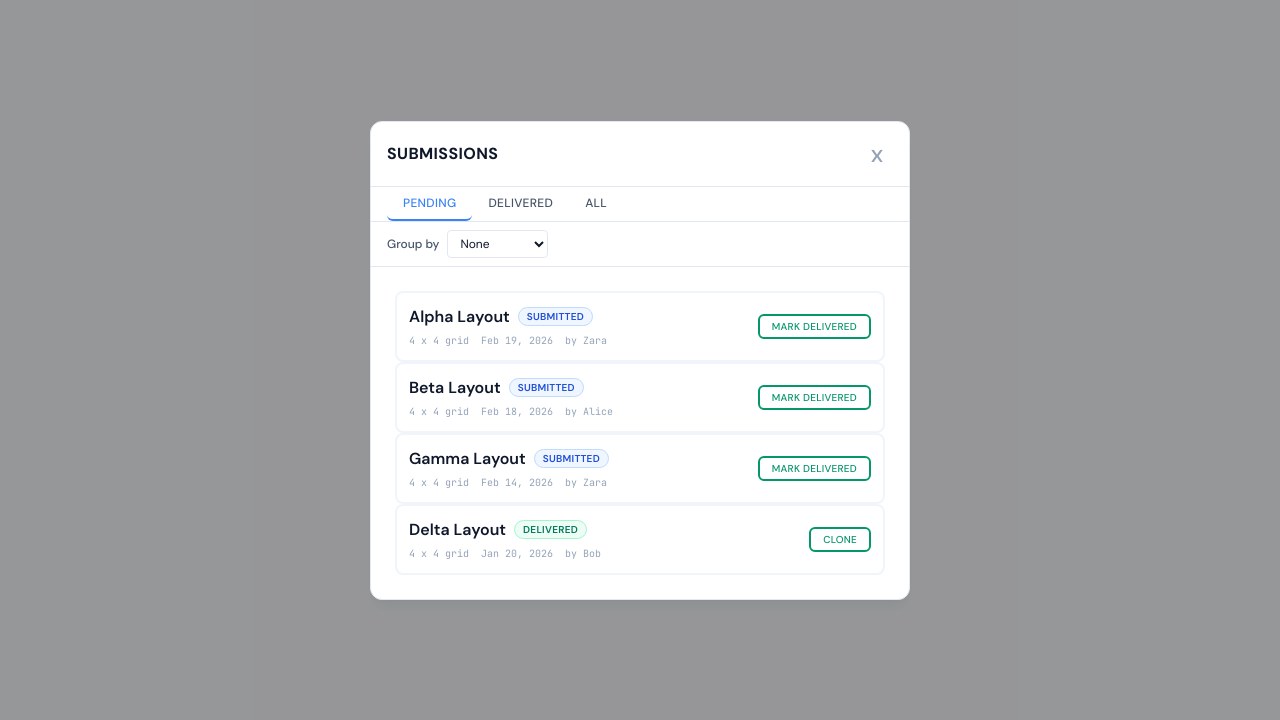
AdminSubmissionsDialog grouping › groups layouts by owner when Owner is selected
Select "Owner" in the dropdown labelled "Group by". click: (498, 244)
box: [448, 230, 548, 258]
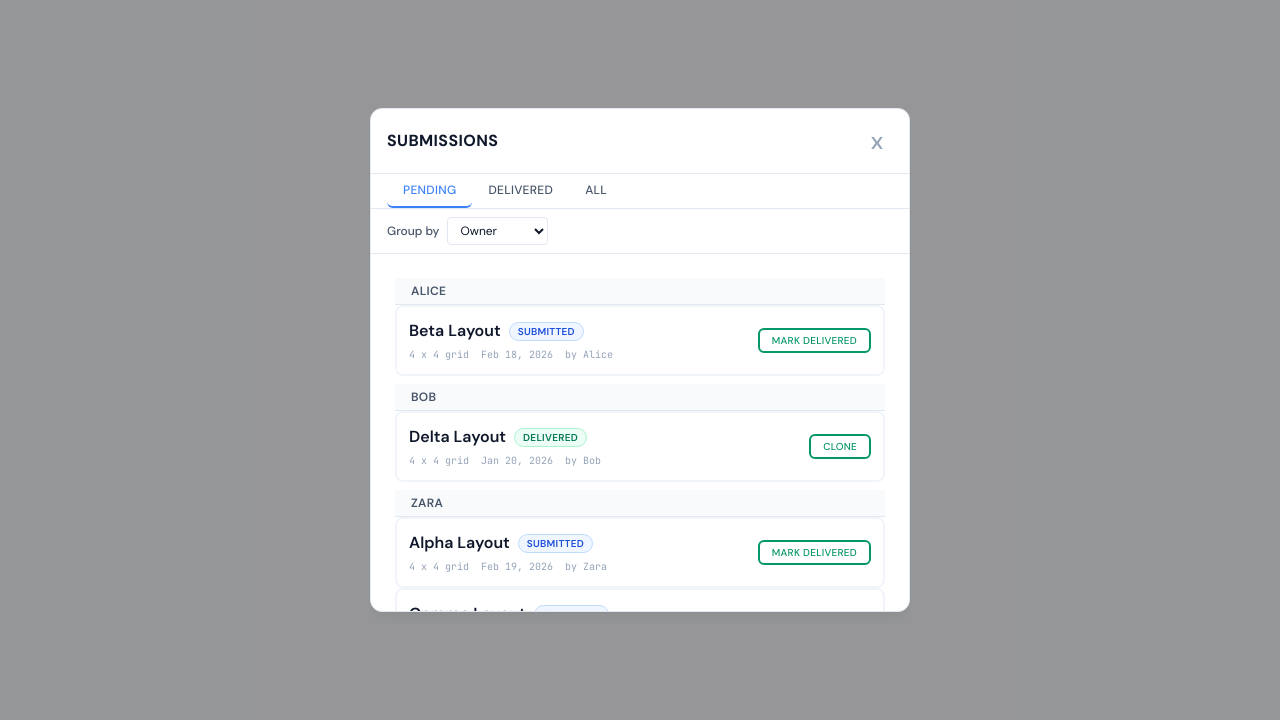
Check: the headings read "Alice", "Bob", "Zara", in this order, box [395, 278, 885, 305]; [395, 384, 885, 411]; [395, 490, 885, 517]
